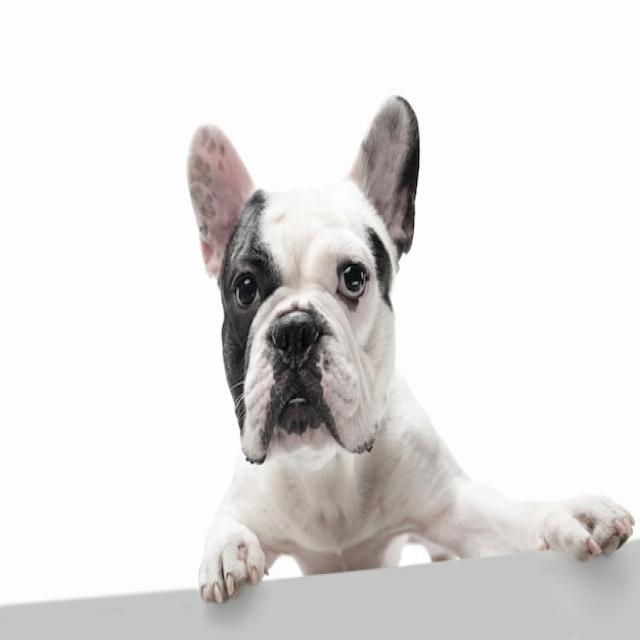Dog: (186, 94, 636, 608)
